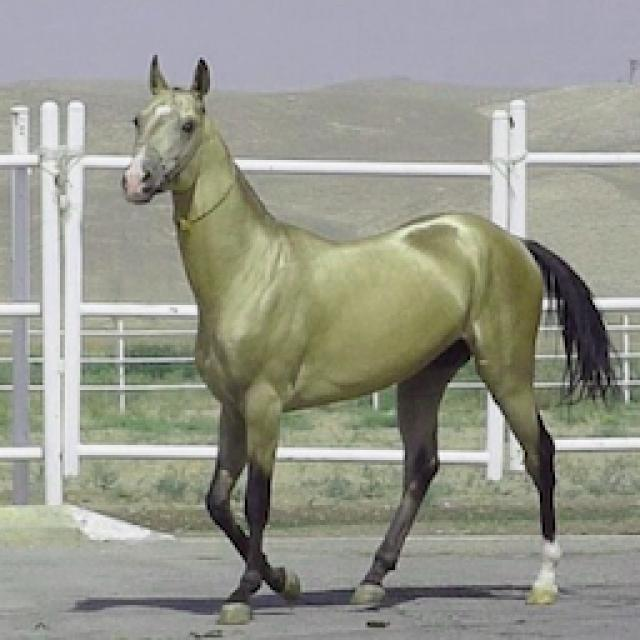Horse: (112, 47, 626, 625)
